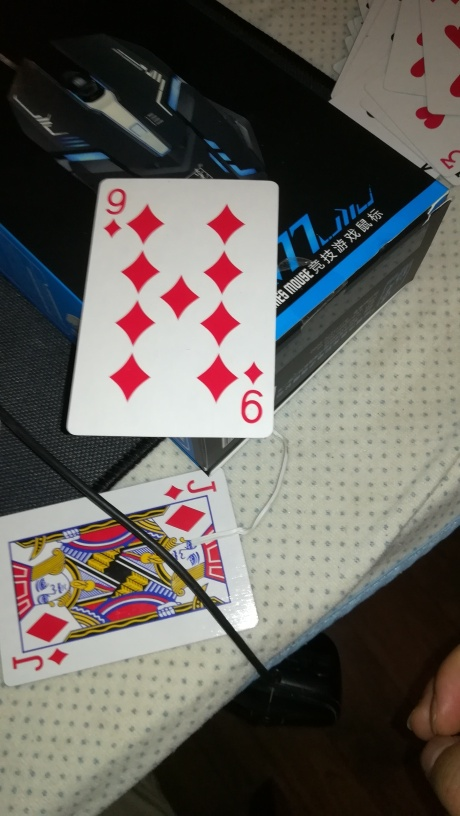fk 9: (59, 175, 281, 445)
